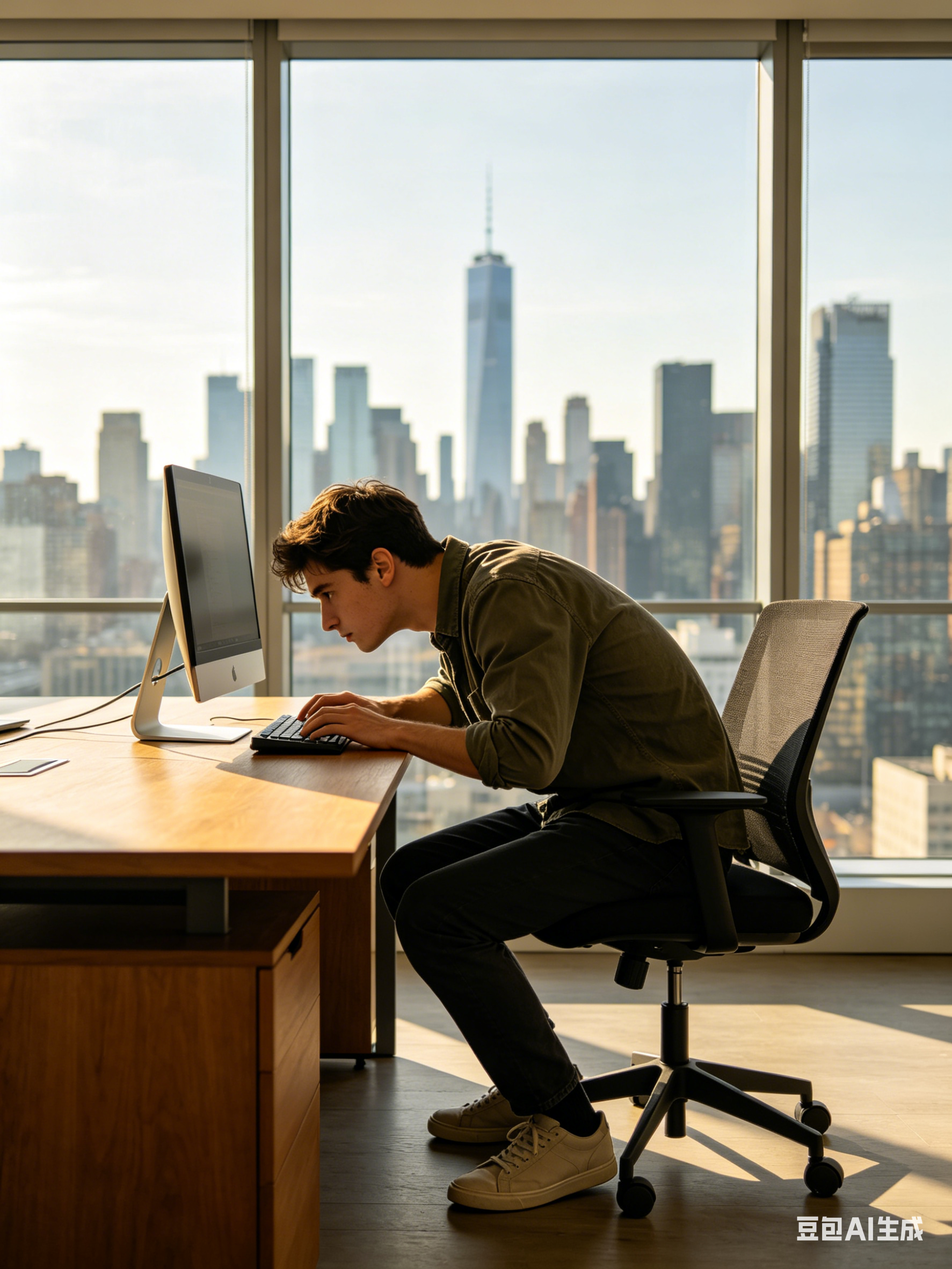sitting_bad: (297, 505, 739, 1180)
